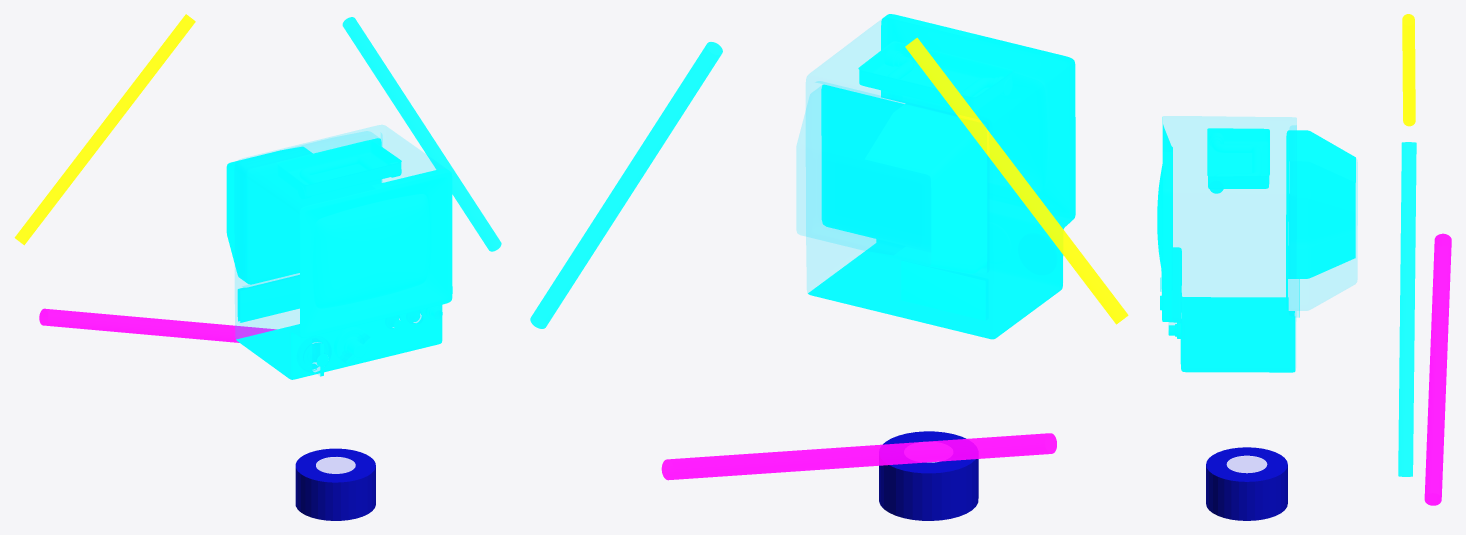
3 renders of one model, left to right at view 1: azimuth 30°, elevation 25°; view 2: azimuth 150°, elevation 25°; view 3: azimuth 270°, elevation 25°, orthographic. The views are drawn at different scales.
Parts seen in each view (by area): view 1: 20353_Old_Television_set_portable_transistor_style_V2, Cylinder.003, Cylinder, Cylinder.002, Cylinder.001, Cylinder.004; view 2: 20353_Old_Television_set_portable_transistor_style_V2, Cylinder.002, Cylinder, Cylinder.003, Cylinder.001; view 3: 20353_Old_Television_set_portable_transistor_style_V2, Cylinder.003, Cylinder, Cylinder.002, Cylinder.001, Cylinder.004.
Part boxes in pixels (box(x1,y1,x2,y2)): 20353_Old_Television_set_portable_transistor_style_V2: box(226, 125, 452, 379); Cylinder.003: box(295, 448, 375, 520); Cylinder: box(342, 17, 501, 251); Cylinder.002: box(39, 308, 276, 342); Cylinder.001: box(14, 14, 195, 245); Cylinder.004: box(316, 457, 355, 473); 20353_Old_Television_set_portable_transistor_style_V2: box(797, 14, 1075, 339); Cylinder.002: box(661, 433, 1056, 480); Cylinder: box(530, 42, 722, 328); Cylinder.003: box(879, 431, 978, 520); Cylinder.001: box(905, 37, 1128, 324); 20353_Old_Television_set_portable_transistor_style_V2: box(1157, 116, 1357, 372); Cylinder.003: box(1206, 447, 1287, 520); Cylinder: box(1398, 142, 1416, 476); Cylinder.002: box(1424, 233, 1451, 505); Cylinder.001: box(1402, 14, 1415, 126); Cylinder.004: box(1226, 455, 1267, 473).
Bounding box in the file's own units: 27.92 × 24.74 × 14.5.
6 materials, 1 textured.
